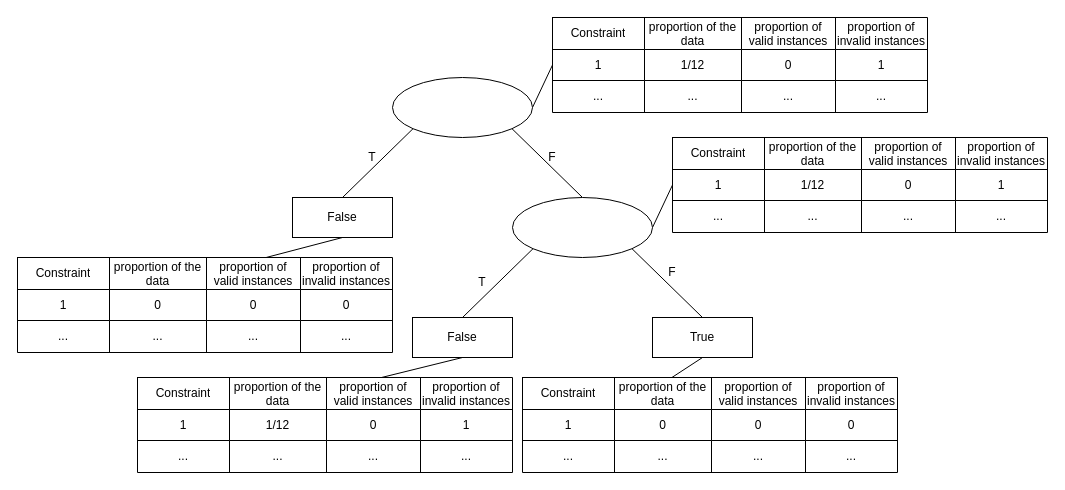
This 1065x490 diagram has some shape labels left out. Each missing label, with the box of its shape:
allergic_to == PEG: (392, 76, 532, 138)
pregnant == True: (512, 196, 652, 258)
